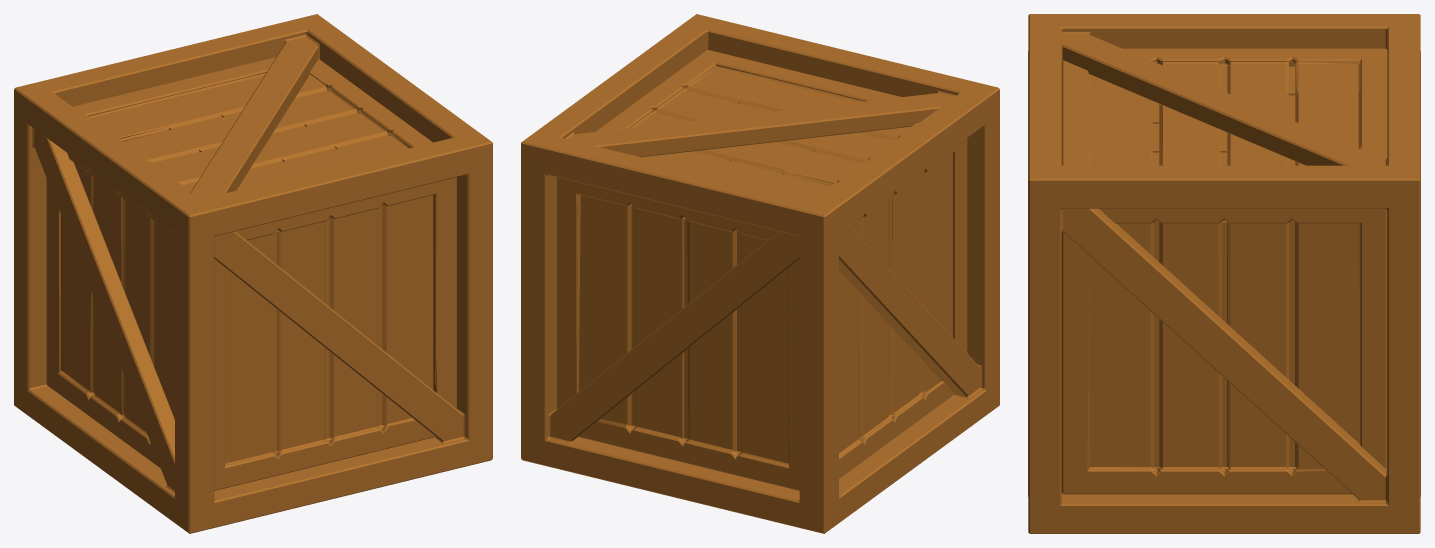
Rendered from Crate.fbx.
3 views of the same model, side by side, from view 1: azimuth 30°, elevation 25°; view 2: azimuth 150°, elevation 25°; view 3: azimuth 270°, elevation 25° (orthographic). The views are drawn at different scales.
Visible parts, largest first — view 1: Crate; view 2: Crate; view 3: Crate.
Boxes of the visible parts, left/top/right/bottom form: Crate: left=14, top=14, right=492, bottom=533; Crate: left=521, top=14, right=999, bottom=533; Crate: left=1028, top=14, right=1420, bottom=533.
Size of the model in its own units: 447 by 447 by 447.
